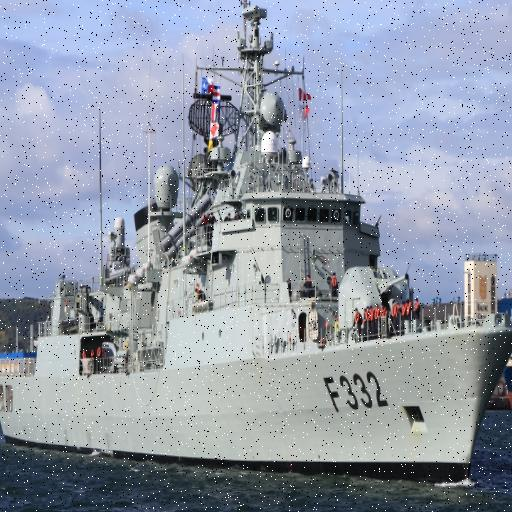Fragata: (1, 1, 512, 495)
